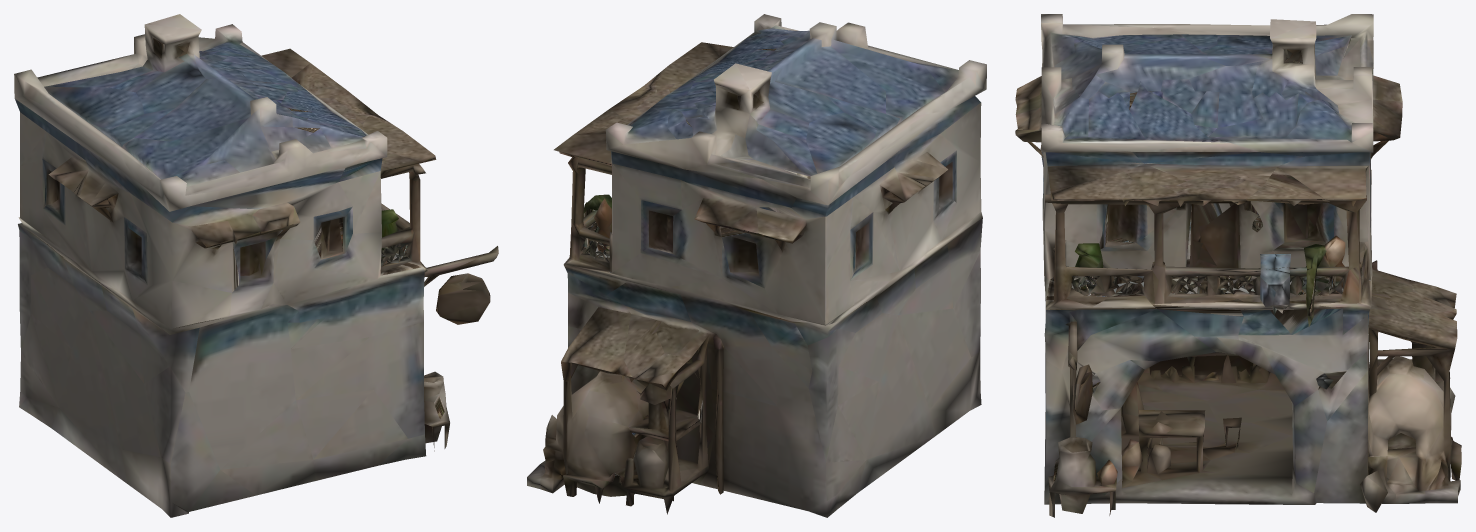
File: house_craftsman_2.glb
3 views of the same model, side by side, from view 1: azimuth 30°, elevation 25°; view 2: azimuth 150°, elevation 25°; view 3: azimuth 270°, elevation 25° (orthographic). The views are drawn at different scales.
Parts seen in each view (by area): view 1: house_craftsman_2; view 2: house_craftsman_2; view 3: house_craftsman_2.
Part boxes in pixels (x1,y1,x2,y2): house_craftsman_2: (14,14,498,517); house_craftsman_2: (527,14,986,517); house_craftsman_2: (1015,14,1461,517).
Bounding box in the file's own units: 0.9756 × 0.9685 × 0.9673.
1 material, 1 textured.
